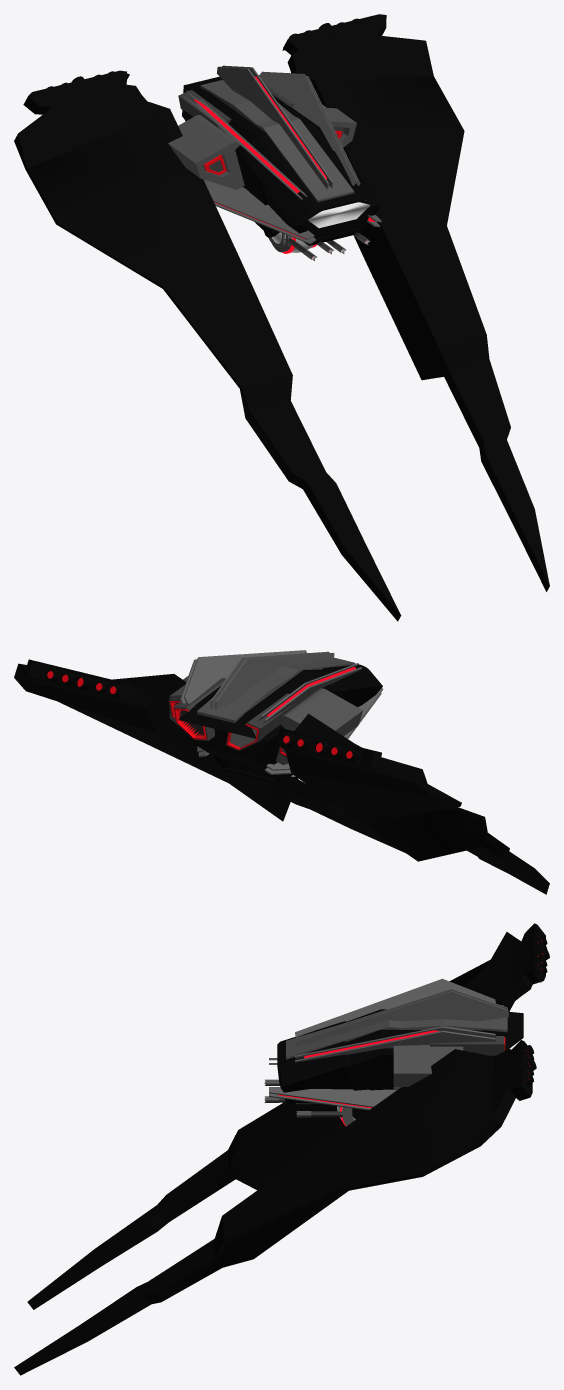
File: Sodka_Amelia.fbx
3 renders of one model, top to bottom at view 1: azimuth 30°, elevation 25°; view 2: azimuth 150°, elevation 25°; view 3: azimuth 270°, elevation 25°, orthographic. The views are drawn at different scales.
Visible parts, largest first — view 1: Cube.001, Cube.002, Cube.034, Cube.027, Cube.016, Cube.022, Cube.029, Cube.018, Cube; view 2: Cube.001, Cube.002, Cube.034, Cube.016, Cube.027, Cube.029, Cube.022, Cube.273, Cube.026, Cube.294, Cube.030, Cube.018 (+3 smaller); view 3: Cube.002, Cube.001, Cube.034, Cube.030, Cube.027, Cube.005, Cube.025, Cube.023, Cube.013, Cube.022, Cube.294, Cube.029.
Part boxes in pixels (x1,y1,x2,y2): Cube.001: (14,70,401,621); Cube.002: (282,14,549,591); Cube.034: (182,76,381,245); Cube.027: (200,80,354,202); Cube.016: (168,115,244,189); Cube.022: (259,71,356,185); Cube.029: (217,66,328,189); Cube.018: (204,179,314,240); Cube: (308,200,373,228); Cube.001: (275,713,549,894); Cube.002: (14,659,404,852); Cube.034: (179,663,382,782); Cube.016: (276,688,362,764); Cube.027: (197,657,354,723); Cube.029: (215,652,334,709); Cube.022: (183,650,306,704); Cube.273: (226,693,300,750); Cube.026: (261,667,362,723); Cube.294: (173,678,226,740); Cube.030: (210,651,329,708); Cube.018: (266,688,383,770); Cube.002: (14,1040,536,1375); Cube.001: (27,923,549,1309); Cube.034: (277,1009,523,1113); Cube.030: (295,991,508,1046); Cube.027: (286,1017,507,1059); Cube.005: (393,1045,463,1089); Cube.025: (295,978,495,1037); Cube.023: (295,1030,496,1062); Cube.013: (269,1087,397,1107); Cube.022: (295,1026,496,1058); Cube.294: (430,1036,504,1055); Cube.029: (295,988,508,1040).
Size of the model in its own units: 5760 by 5139 by 7051.
